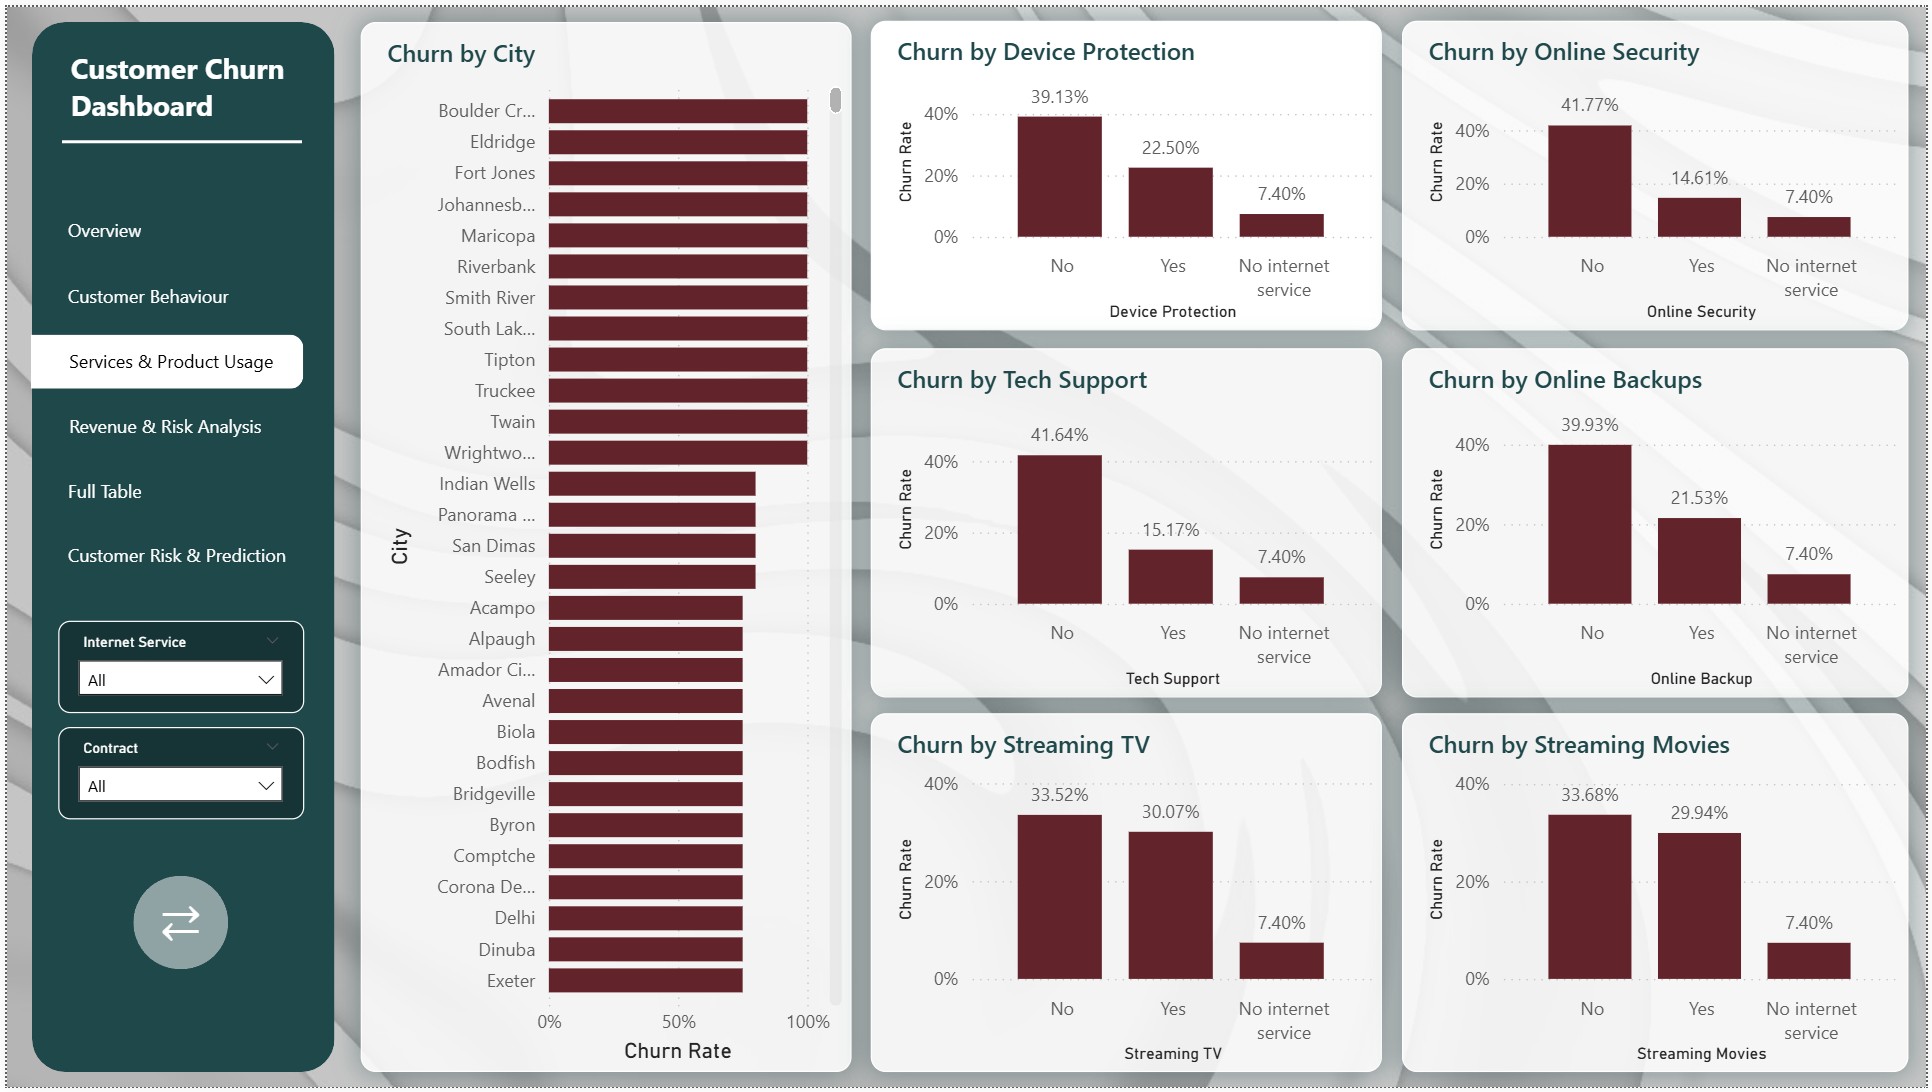

The page's visual inventory and layout, read from the dashboard file:
{"tool":"powerbi","page":{"name":"Services and Product Usage","canvas":[1280,720],"ordinal":2},"visuals":[{"type":"shape","box":[16.8,9.7,201.8,700],"z":0},{"type":"textbox","box":[37.3,23,161.1,96.8],"z":1000},{"type":"columnChart","title":"Churn by Streaming Movies","fields":{"Category":["Dataset.Streaming Movies"],"Series":["Dataset.Churn Label"],"Y":["Dataset.Total Customers"]},"box":[930.2,470.6,338.1,238.9],"z":2000},{"type":"columnChart","title":"Churn by Tech Support","fields":{"Category":["Dataset.Tech Support"],"Series":["Dataset.Churn Label"],"Y":["Dataset.Total Customers"]},"box":[576.2,227.8,341.3,232.5],"z":3000},{"type":"columnChart","title":"Churn by Online Security","fields":{"Category":["Dataset.Online Security"],"Series":["Dataset.Churn Label"],"Y":["Dataset.Total Customers"]},"box":[930.2,9.5,338.1,206.3],"z":4000},{"type":"columnChart","title":"Churn by Streaming TV","fields":{"Category":["Dataset.Streaming TV"],"Series":["Dataset.Churn Label"],"Y":["Dataset.Total Customers"]},"box":[576.2,470.6,341.3,238.9],"z":5000},{"type":"columnChart","title":"Churn by Online Backups","fields":{"Category":["Dataset.Online Backup"],"Series":["Dataset.Churn Label"],"Y":["Dataset.Total Customers"]},"box":[930.2,227.8,338.1,232.5],"z":7000},{"type":"barChart","title":"Churn by City","fields":{"Category":["Dataset.City"],"Series":["Dataset.Churn Label"],"Y":["Dataset.Total Customers"]},"box":[236.5,9.7,326.9,699.9],"z":8000},{"type":"columnChart","title":"Churn by Device Protection","fields":{"Series":["Dataset.Churn Label"],"Category":["Dataset.Device Protection"],"Y":["Dataset.Total Customers"]},"box":[576.2,9.5,341.3,206.3],"z":9000}]}

Visuals, with their boxes on the page's 1280x720 design canvas (x1, y1, x2, y2). These are canvas units, not pixel positions in the 1932x1092 screenshot, which may show the page scaled, cropped or inside an application window:
shape: 17,10,219,710
textbox: 37,23,198,120
"Churn by Streaming Movies" columnChart: 930,471,1268,710
"Churn by Tech Support" columnChart: 576,228,918,460
"Churn by Online Security" columnChart: 930,10,1268,216
"Churn by Streaming TV" columnChart: 576,471,918,710
"Churn by Online Backups" columnChart: 930,228,1268,460
"Churn by City" barChart: 236,10,563,710
"Churn by Device Protection" columnChart: 576,10,918,216
